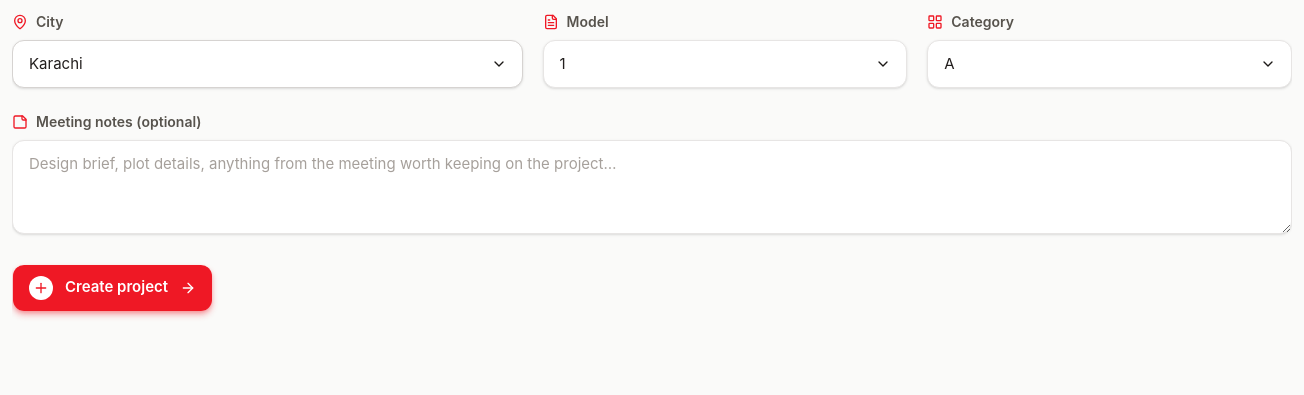
it: ConvertLeadForm › surfaces a server error without navigating away
The width and height of the screenshot is (1304, 395).
Click the button "Create project" at [113, 288], box x1=12 y1=264 x2=213 y2=312
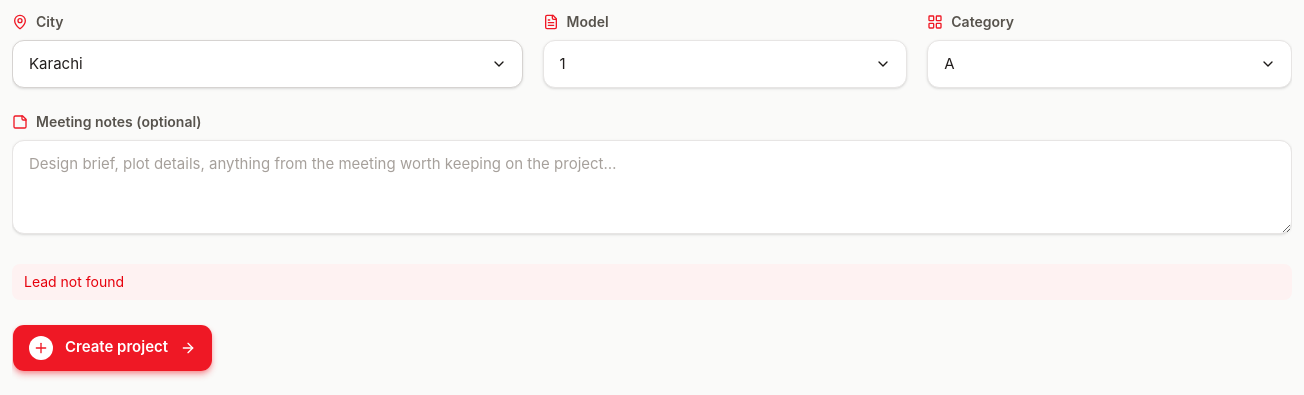
Result: the message reads "Lead not found" at x1=24 y1=272 x2=124 y2=290
